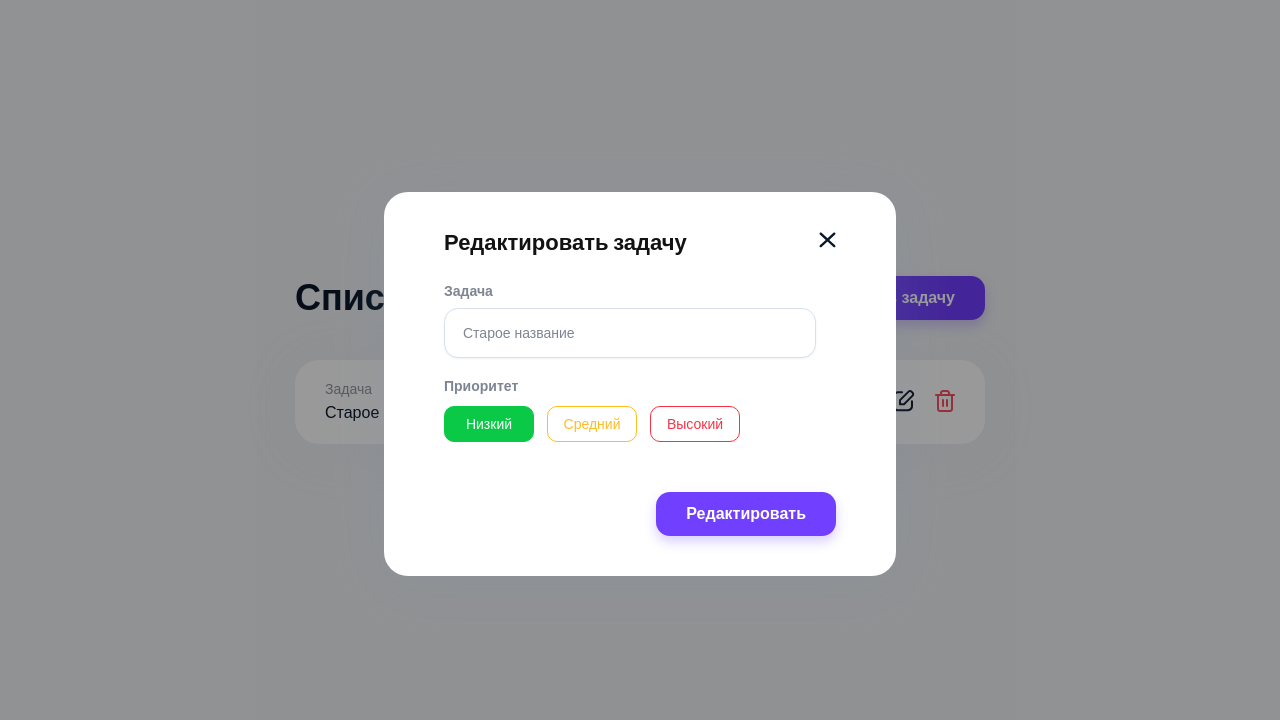
Test case: Тесты функционала самого списка задач › При сохранении изменений в модалке текст задачи в списке должен обновиться
Replace the text in the field with placeholder "Введите текст.." with "Обновленное название" at (630, 333), box [444,308,816,358]
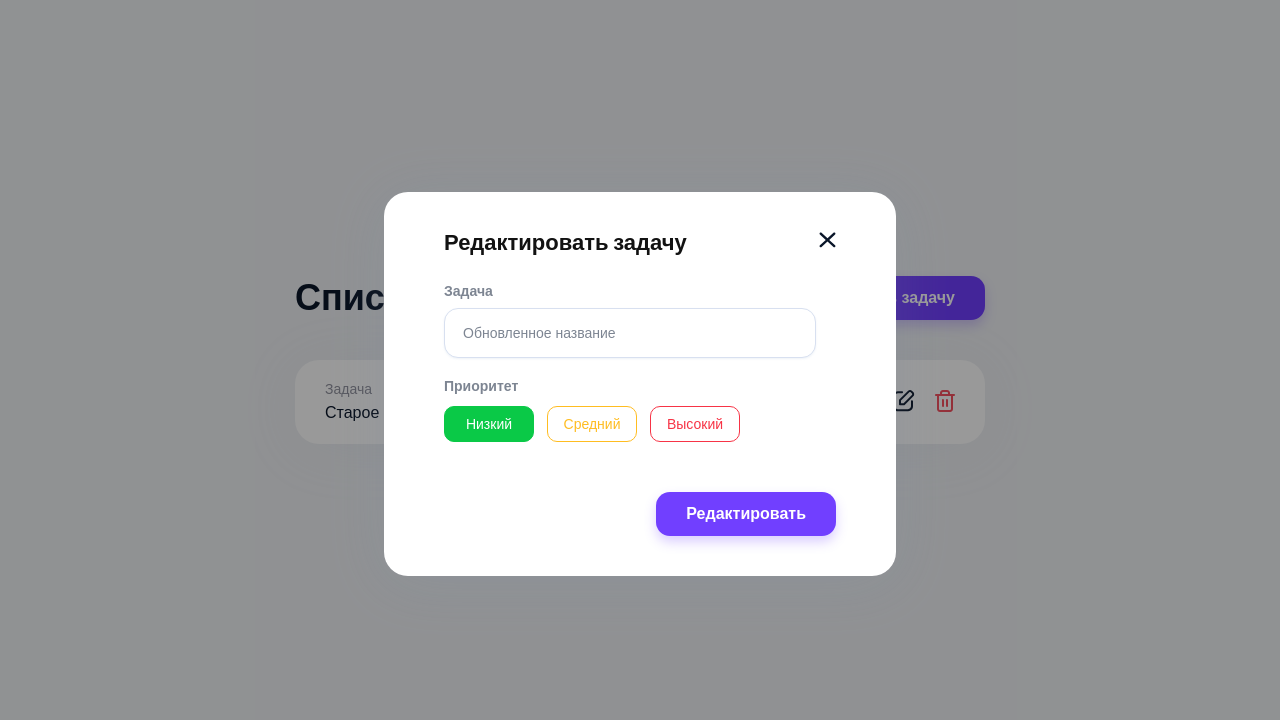
Click the button "Редактировать" at (746, 514), box [656,492,836,536]
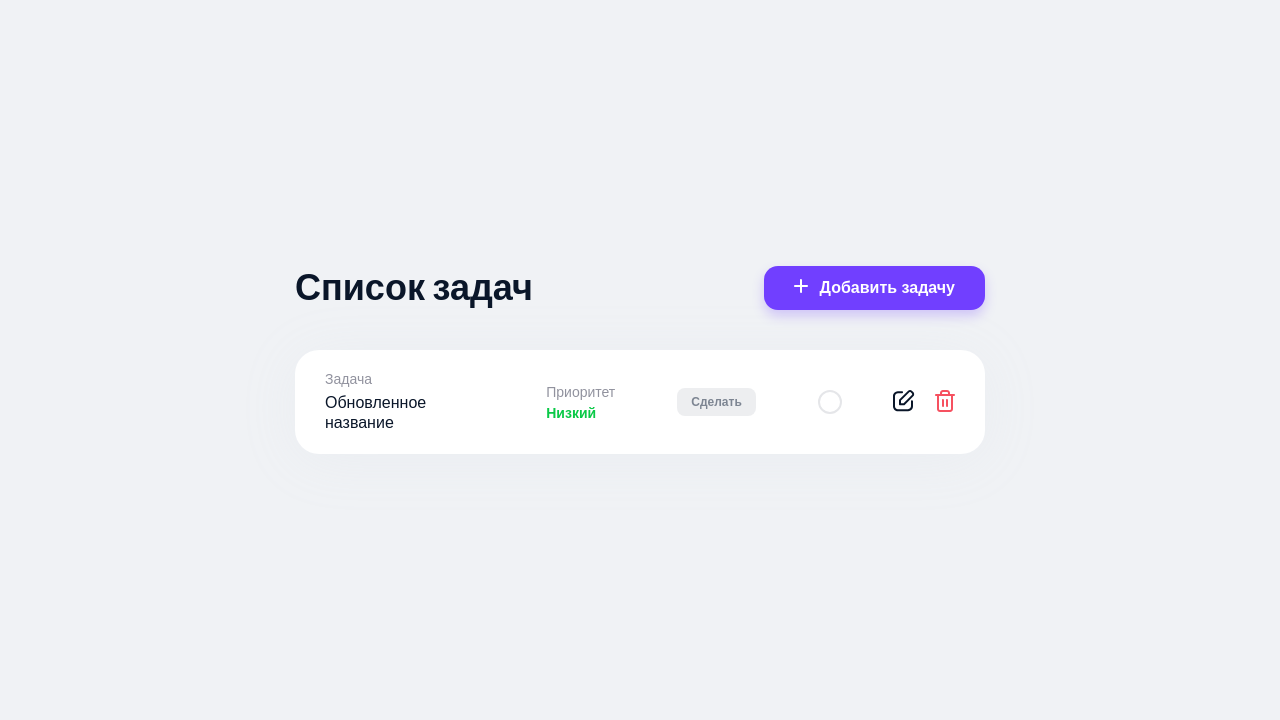
Check: the text "Старое название" is gone
Check: the text "Обновленное название" is shown, box [325,391,426,434]
